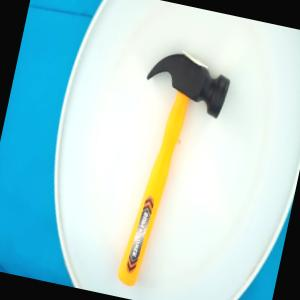martelo: (100, 46, 234, 298)
